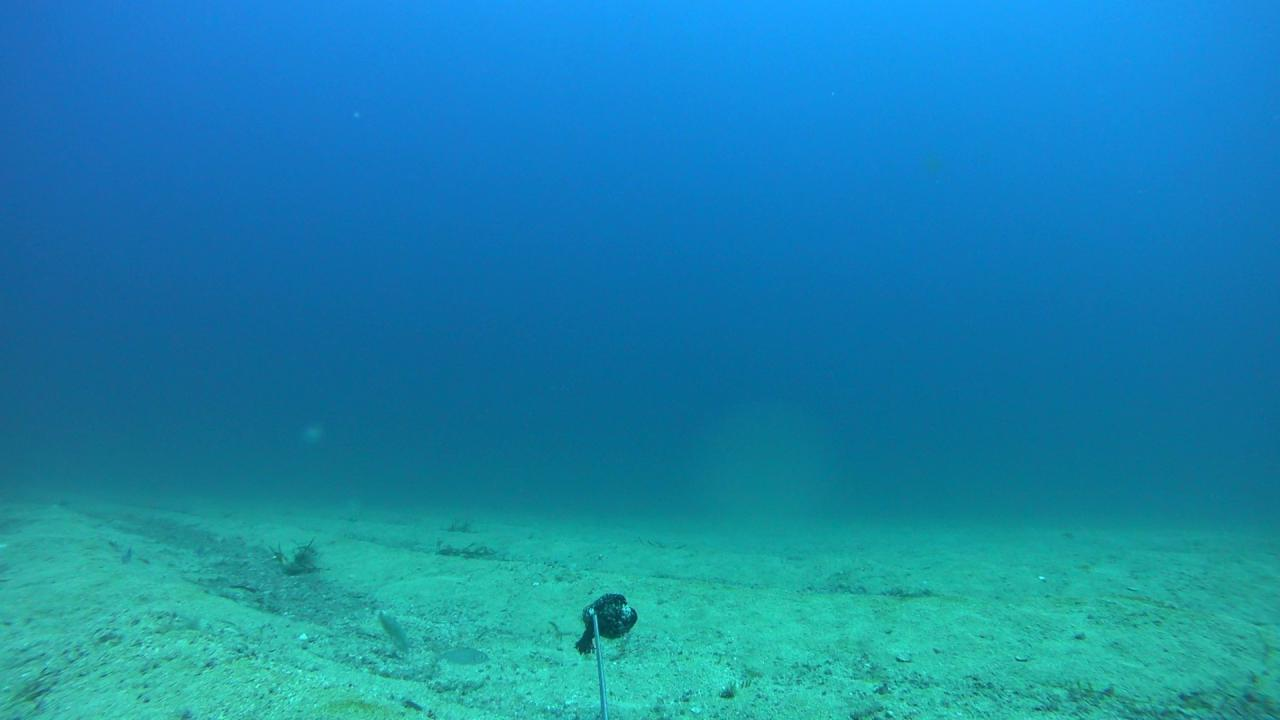pagellus: (381, 611, 413, 656), (424, 646, 492, 665)
